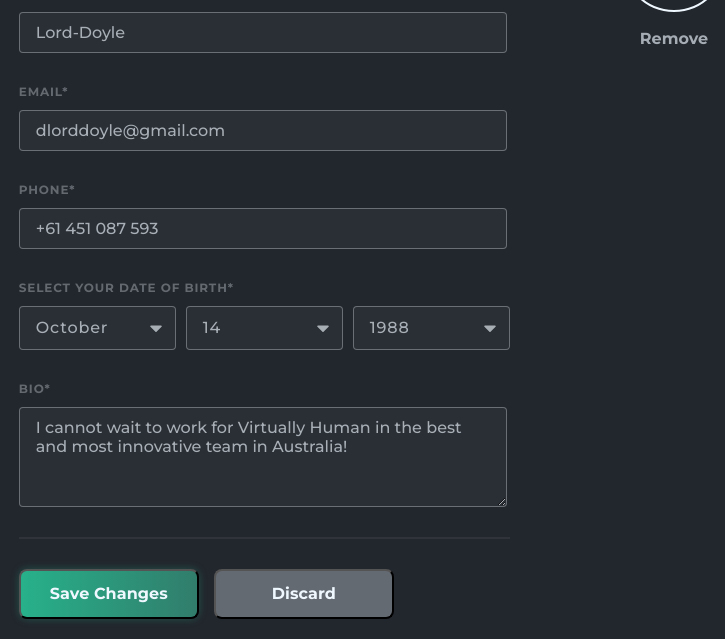
Test: The bio field input text area › will tell the user that they should check for spaces if there is a space char at the beginning or end of the Bio if they have rogue space characters there
The width and height of the screenshot is (725, 639).
(page scrolled)
Replace the text in the text box named "bioinput" with "  test for space  " at (263, 456), box [19,406,507,506]
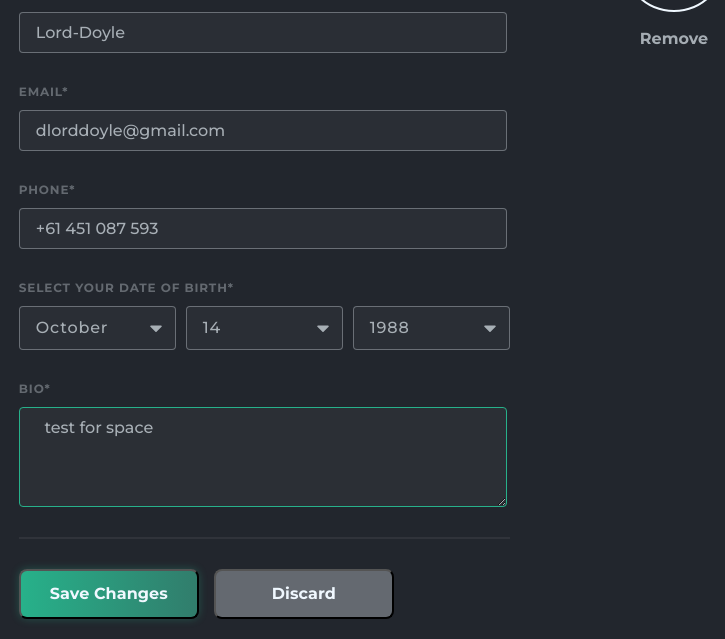
Click the field named "phoneinput".
click(263, 228)  # box [19,208,507,249]
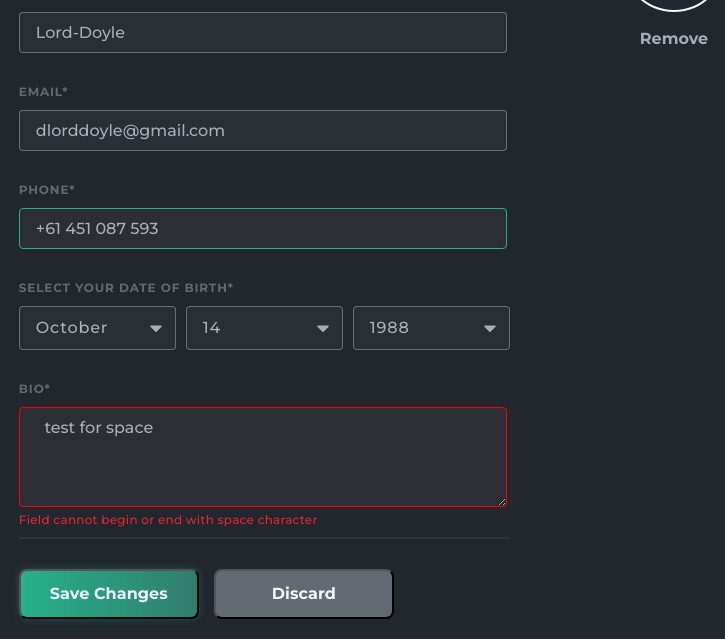
Check: the text with test id "bioErrorMessage" reads "Field cannot begin or end with space character", box [19,512,318,526]
